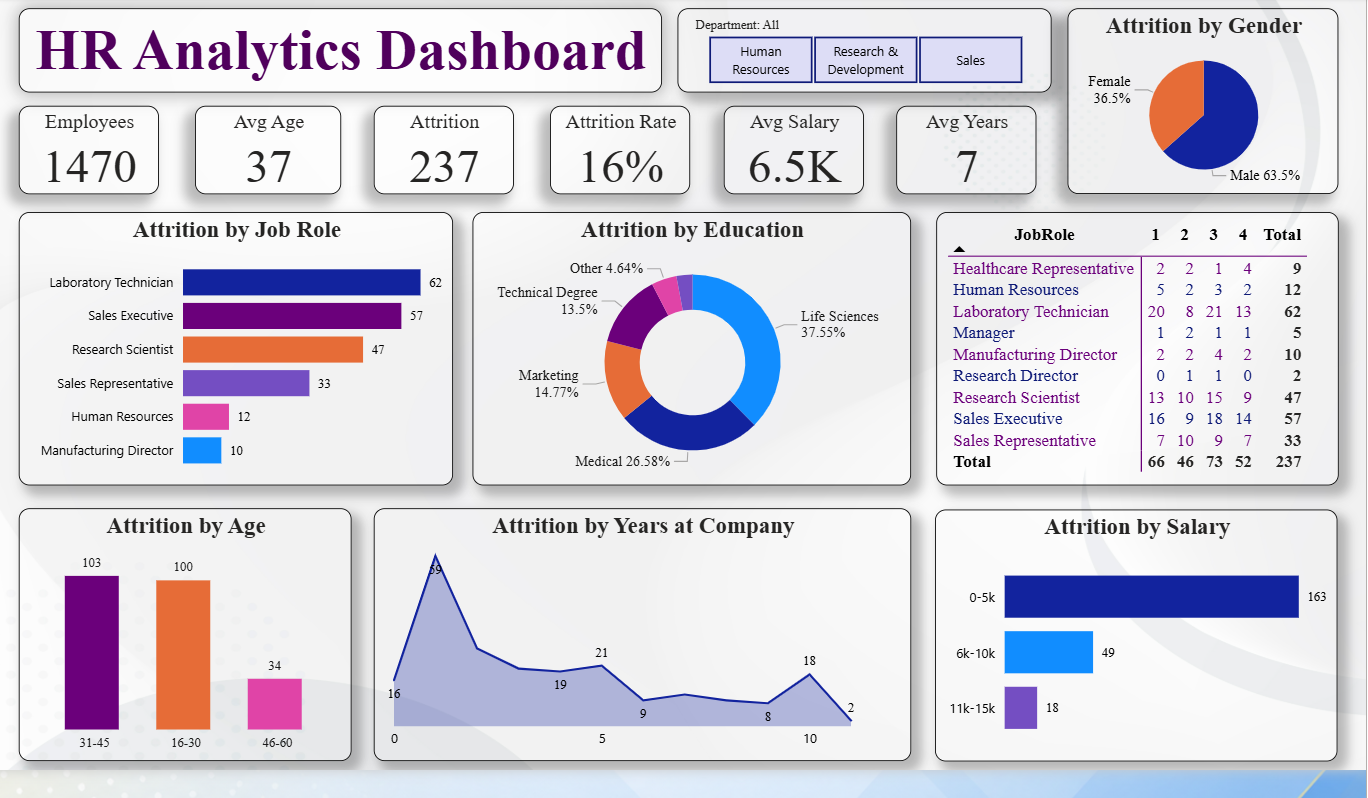

The dashboard page shown, as its layout file describes it:
{"tool":"powerbi","page":{"name":"Page 1","canvas":[1280,720],"ordinal":0},"visuals":[{"type":"textbox","box":[27.2,10.7,598.2,78.8],"z":0},{"type":"card","title":"Employees","fields":{"Values":["CountNonNull(HR-Employee-Attrition.EmployeeNumber)"]},"box":[27.2,101.2,130.3,82.7],"z":1000},{"type":"card","title":"Avg Age","fields":{"Values":["Avg(HR-Employee-Attrition.Age)"]},"box":[190.6,101.2,136.2,82.7],"z":2000},{"type":"card","title":"Attrition","fields":{"Values":["Sum(HR-Employee-Attrition.AttritionCount)"]},"box":[357,101.2,130.3,82.7],"z":3000},{"type":"card","title":"Attrition Rate","fields":{"Values":["HR-Employee-Attrition.AttritionRate"]},"box":[520.4,101.2,130.3,82.7],"z":4000},{"type":"card","title":"Avg Salary","fields":{"Values":["Avg(HR-Employee-Attrition.MonthlyIncome)"]},"box":[682.8,101.2,130.3,82.7],"z":5000},{"type":"card","title":"Avg Years","fields":{"Values":["Avg(HR-Employee-Attrition.YearsAtCompany)"]},"box":[843.3,101.2,130.3,82.7],"z":6000},{"type":"donutChart","title":" Attrition by Education","fields":{"Category":["HR-Employee-Attrition.EducationField"],"Y":["Sum(HR-Employee-Attrition.AttritionCount)"]},"box":[449,200,407.8,254.3],"z":7000},{"type":"columnChart","title":" Attrition by Age","fields":{"Y":["Sum(HR-Employee-Attrition.AttritionCount)"],"Category":["HR-Employee-Attrition.AgeGroup"]},"box":[27.2,475.3,309.6,235],"z":8000},{"type":"pivotTable","fields":{"Rows":["HR-Employee-Attrition.JobRole"],"Columns":["HR-Employee-Attrition.JobSatisfaction"],"Values":["Sum(HR-Employee-Attrition.AttritionCount)"]},"box":[880,200,374,254],"z":9000},{"type":"clusteredBarChart","title":"Attrition by Job Role","fields":{"Category":["HR-Employee-Attrition.JobRole"],"Y":["Sum(HR-Employee-Attrition.AttritionCount)"]},"box":[27.2,200,404.3,254.3],"z":10000},{"type":"areaChart","title":"Attrition by Years at Company","fields":{"Category":["HR-Employee-Attrition.YearsAtCompany"],"Y":["Sum(HR-Employee-Attrition.AttritionCount)"]},"box":[356.9,475.3,499.9,235],"z":11000},{"type":"barChart","title":"Attrition by Salary","fields":{"Y":["Sum(HR-Employee-Attrition.AttritionCount)"],"Category":["HR-Employee-Attrition.Salary"]},"box":[879.6,476.2,374.5,234.2],"z":12000},{"type":"pieChart","title":"Attrition by Gender","fields":{"Category":["HR-Employee-Attrition.Gender"],"Y":["Sum(HR-Employee-Attrition.AttritionCount)"]},"box":[1002.8,10.7,251.9,173.1],"z":13000},{"type":"slicer","fields":{"Values":["HR-Employee-Attrition.Department"]},"box":[640,10.7,348.2,78.8],"z":14000}]}

Visuals, with their boxes in screenshot pixels (x1, y1, x2, y2):
textbox: <region>0, 1, 648, 87</region>
"Employees" card: <region>0, 100, 136, 190</region>
"Avg Age" card: <region>173, 100, 321, 190</region>
"Attrition" card: <region>354, 100, 497, 190</region>
"Attrition Rate" card: <region>533, 100, 675, 190</region>
"Avg Salary" card: <region>710, 100, 853, 190</region>
"Avg Years" card: <region>886, 100, 1028, 190</region>
" Attrition by Education" donutChart: <region>455, 208, 901, 486</region>
" Attrition by Age" columnChart: <region>0, 509, 332, 765</region>
pivotTable - HR-Employee-Attrition.JobRole x HR-Employee-Attrition.JobSatisfaction: <region>926, 208, 1335, 485</region>
"Attrition by Job Role" clusteredBarChart: <region>0, 208, 436, 486</region>
"Attrition by Years at Company" areaChart: <region>354, 509, 901, 765</region>
"Attrition by Salary" barChart: <region>926, 510, 1335, 766</region>
"Attrition by Gender" pieChart: <region>1060, 1, 1335, 190</region>
slicer - HR-Employee-Attrition.Department: <region>664, 1, 1044, 87</region>
